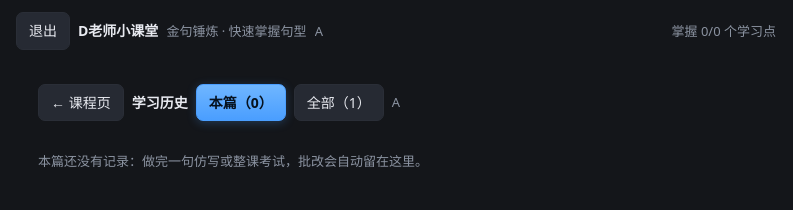
Test: GoldenPanel › 切「全部」能看别的篇，默认不给
Expected: the text "本篇还没有记录：做完一句仿写或整课考试，批改会自动留在这里。" is shown, [38, 152, 428, 170]
Expected: the text "B 篇" is not shown
# 切全部：出现，并显示文章标题
Click the button "全部（1）".
click(339, 103)  # box [294, 84, 384, 121]
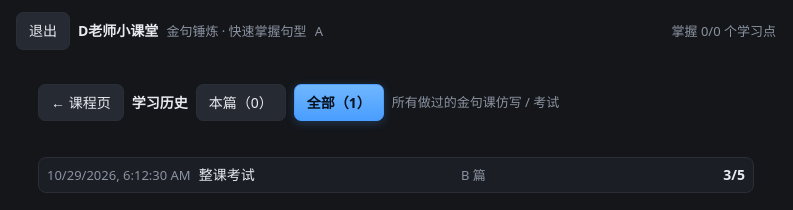
Expected: the text "B 篇" is shown, [461, 166, 486, 184]
